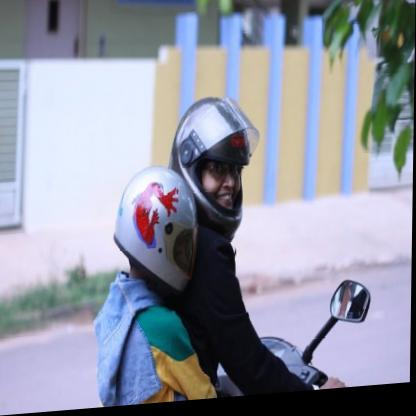With Helmet: (166, 94, 261, 245), (116, 170, 197, 300)
